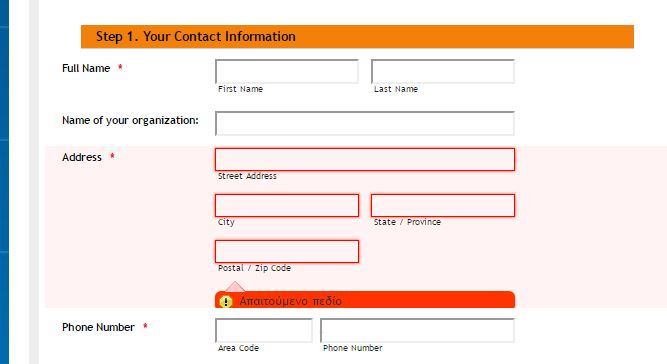error_field: (213, 146, 515, 173), (214, 239, 362, 264), (214, 193, 361, 218), (369, 193, 515, 217)
error_message: (234, 295, 343, 306)
